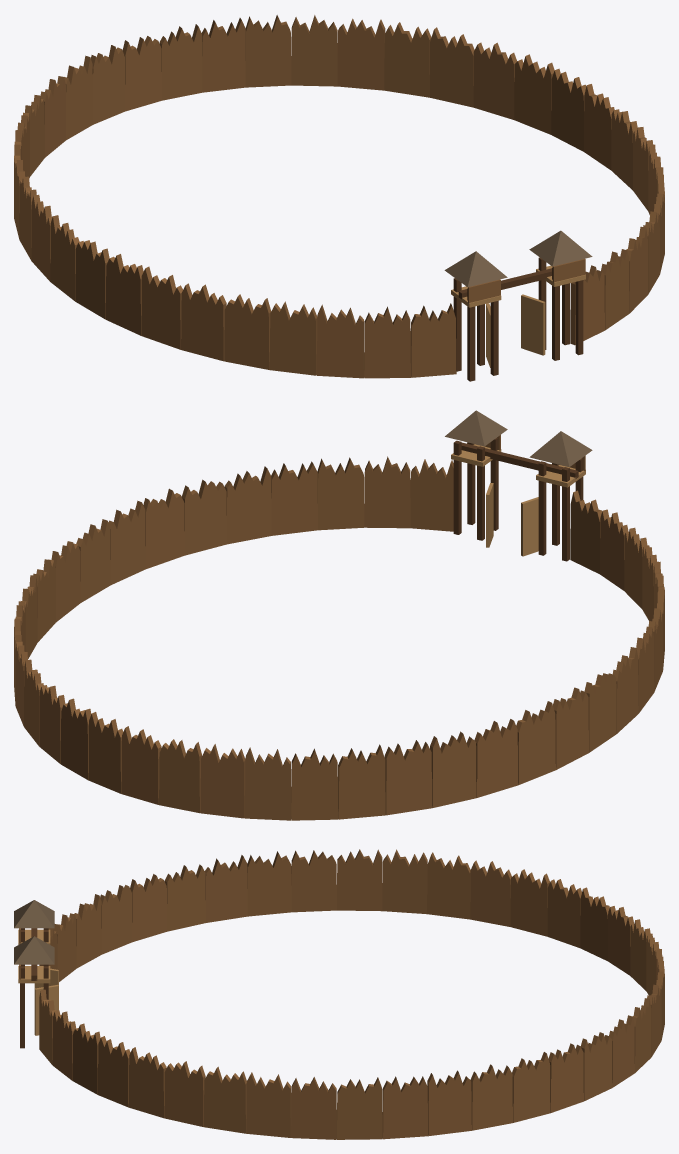
File: castle_palisade.glb
The picture shows the model from 3 angles, top to bottom: view 1: azimuth 30°, elevation 25°; view 2: azimuth 150°, elevation 25°; view 3: azimuth 270°, elevation 25°; orthographic projection. The views are drawn at different scales.
Visible parts, largest first — view 1: castle_palisade; view 2: castle_palisade; view 3: castle_palisade.
Part boxes in pixels (box(x1,y1,x2,y2)): castle_palisade: box(14, 15, 664, 381); castle_palisade: box(14, 410, 664, 820); castle_palisade: box(14, 849, 664, 1139).
Bounding box in the file's own units: 32.3 × 6.9 × 38.36.
